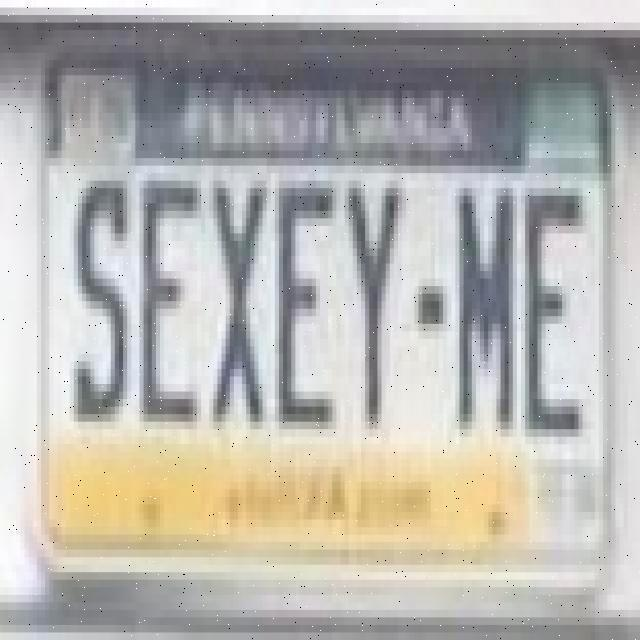LicensePlate: (19, 27, 622, 631)
